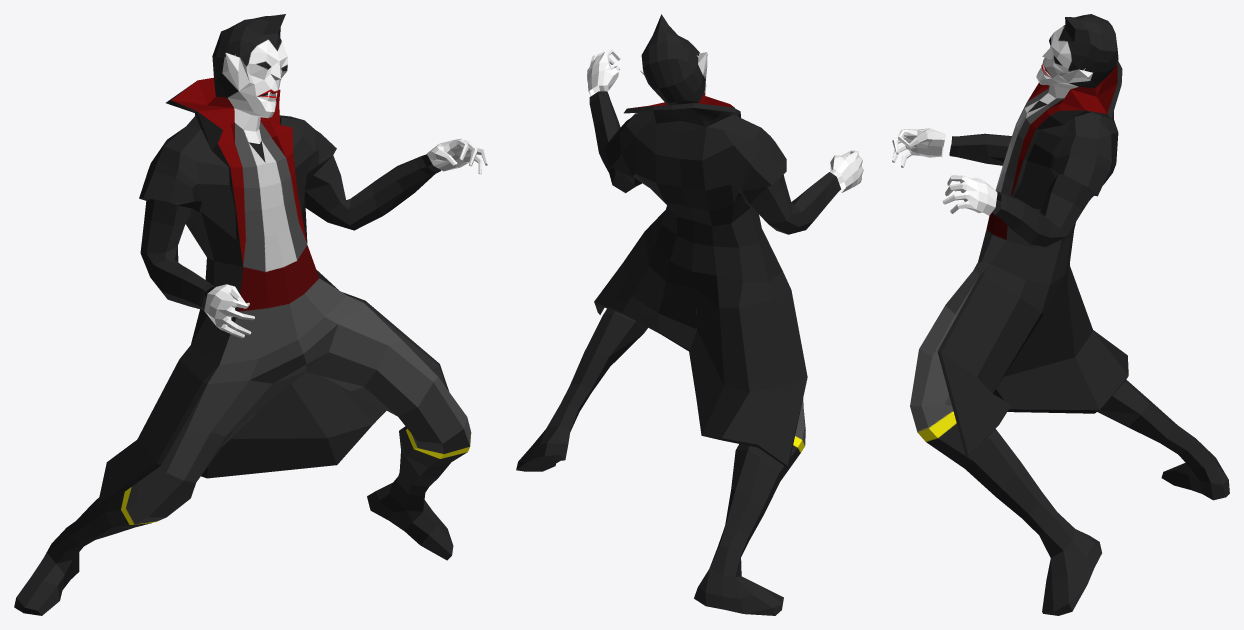
File: VampireAttack(15).obj
3 renders of one model, left to right at view 1: azimuth 30°, elevation 25°; view 2: azimuth 150°, elevation 25°; view 3: azimuth 270°, elevation 25°, orthographic. The views are drawn at different scales.
Visible parts, largest first — view 1: Plane002; view 2: Plane002; view 3: Plane002.
Boxes of the visible parts, left/top/right/bottom form: Plane002: left=14, top=14, right=487, bottom=615; Plane002: left=516, top=14, right=863, bottom=615; Plane002: left=892, top=14, right=1229, bottom=615.
Bounding box in the file's own units: 193 × 300 × 167.
